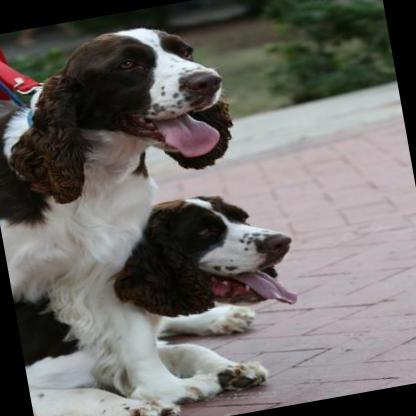English_springer: (0, 11, 279, 416), (2, 178, 315, 416)
